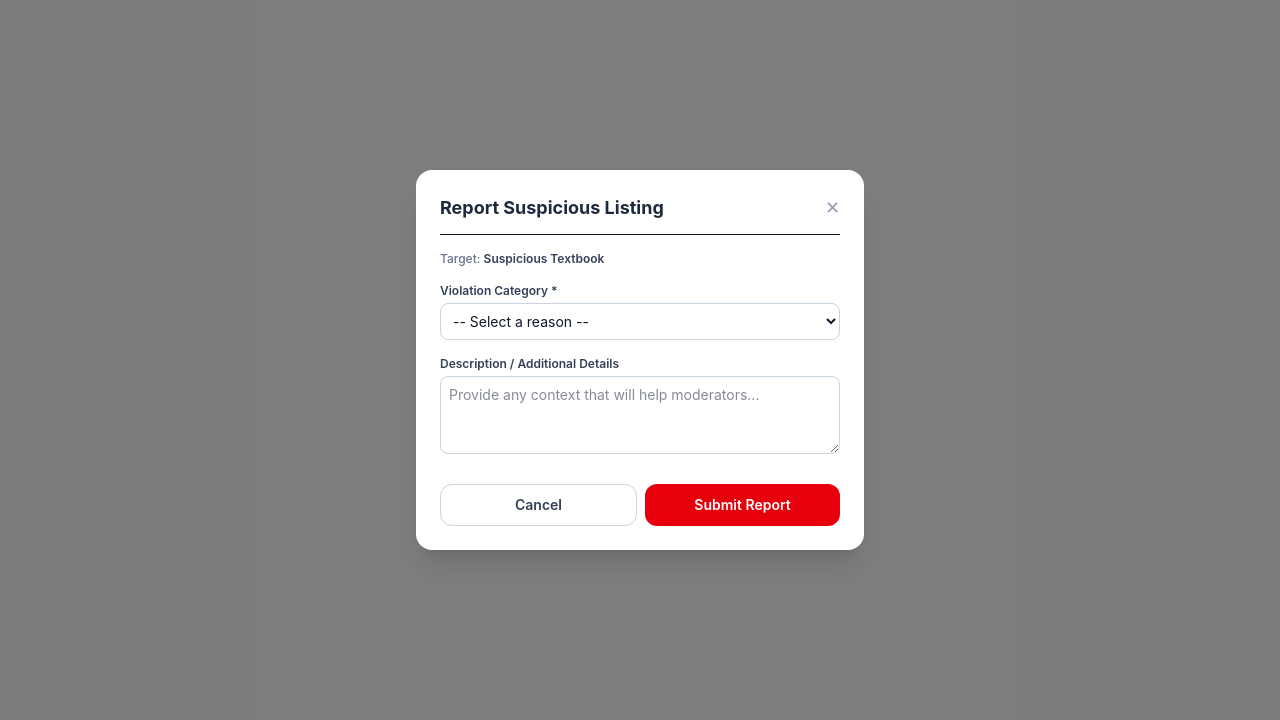
ReportModal Component (US-11) › submits report successfully and displays acknowledgment notification
The image size is (1280, 720).
Select "Scam / Fraud" in the dropdown labelled "Violation Category *" at (640, 322), box [440,303,840,340]
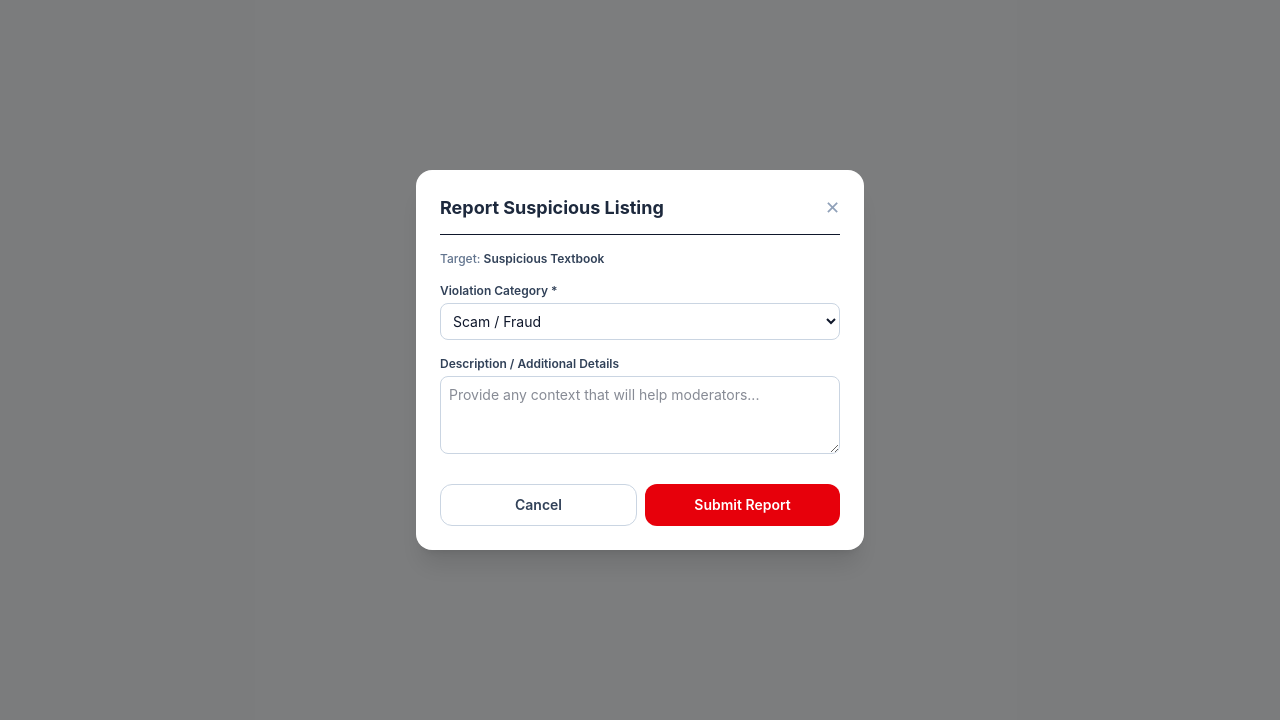
Type "Seller asked for off-platform payment." into the text box labelled "Description / Additional Details" at (640, 415), box [440,376,840,454]
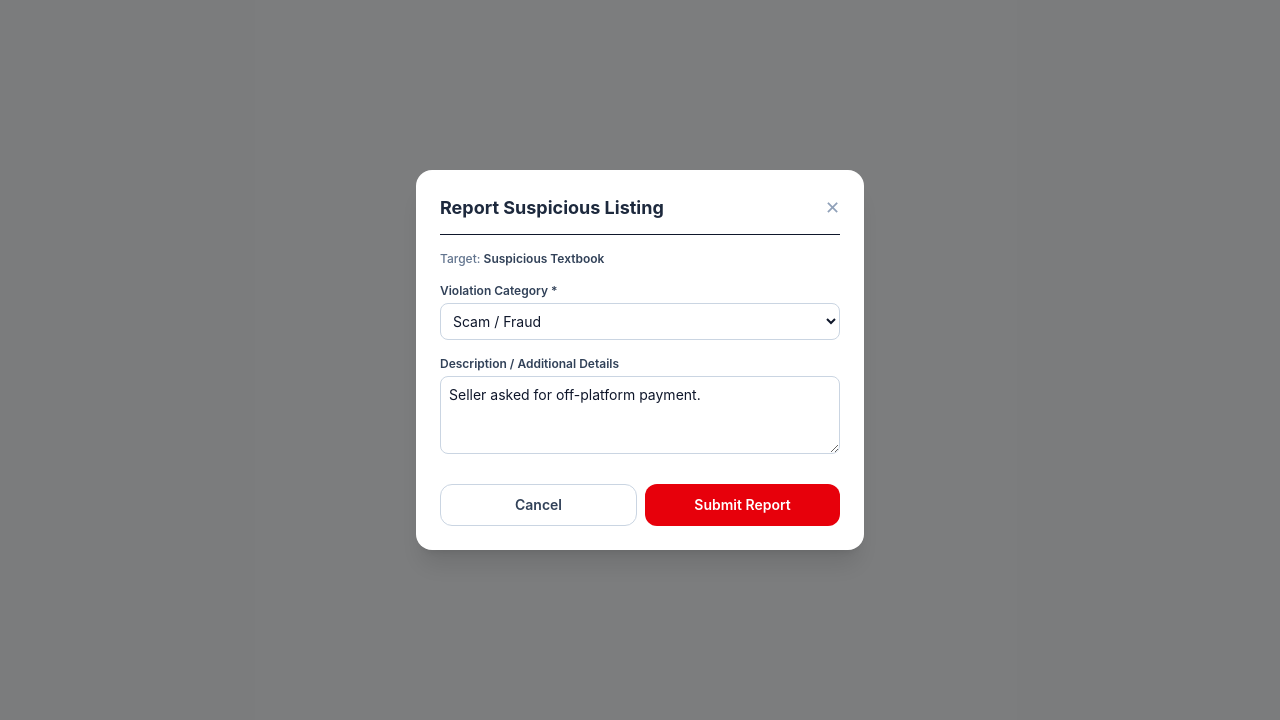
Click the button "Submit Report" at (742, 505), box [645,484,840,526]
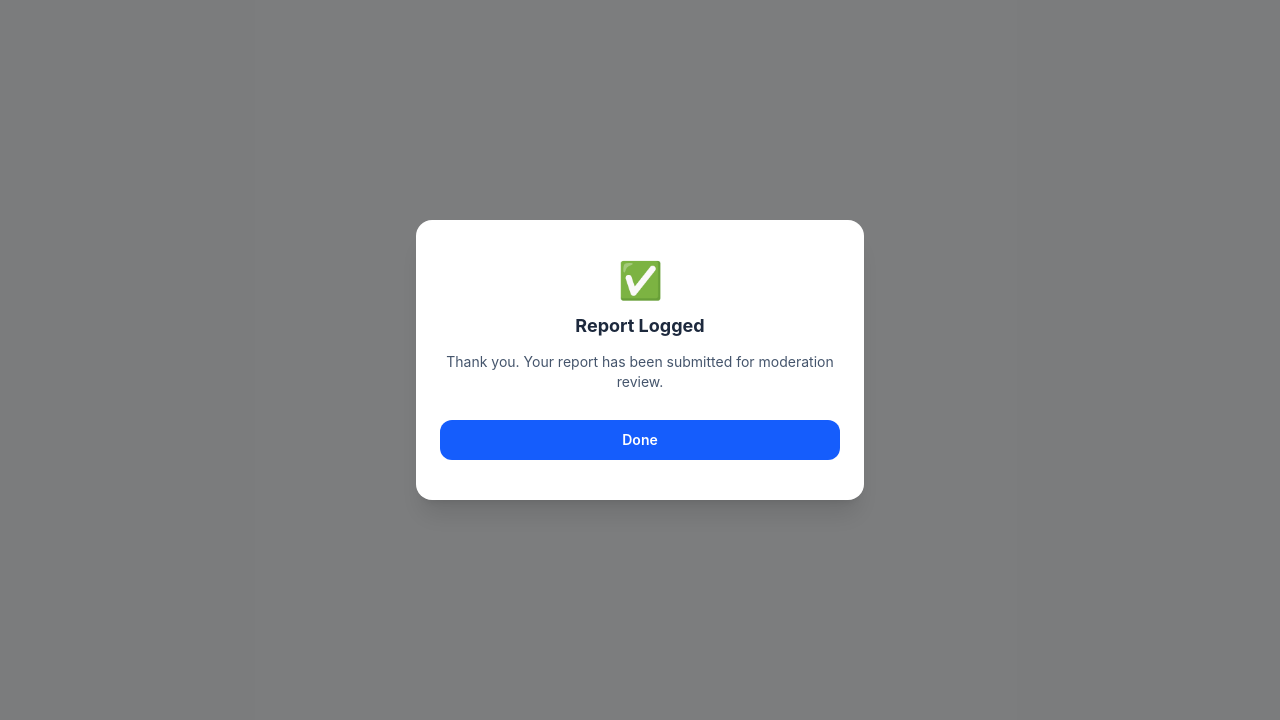
Now the text "Thank you. Your report has been submitted for moderation review." is shown, box [440,352,840,392]
